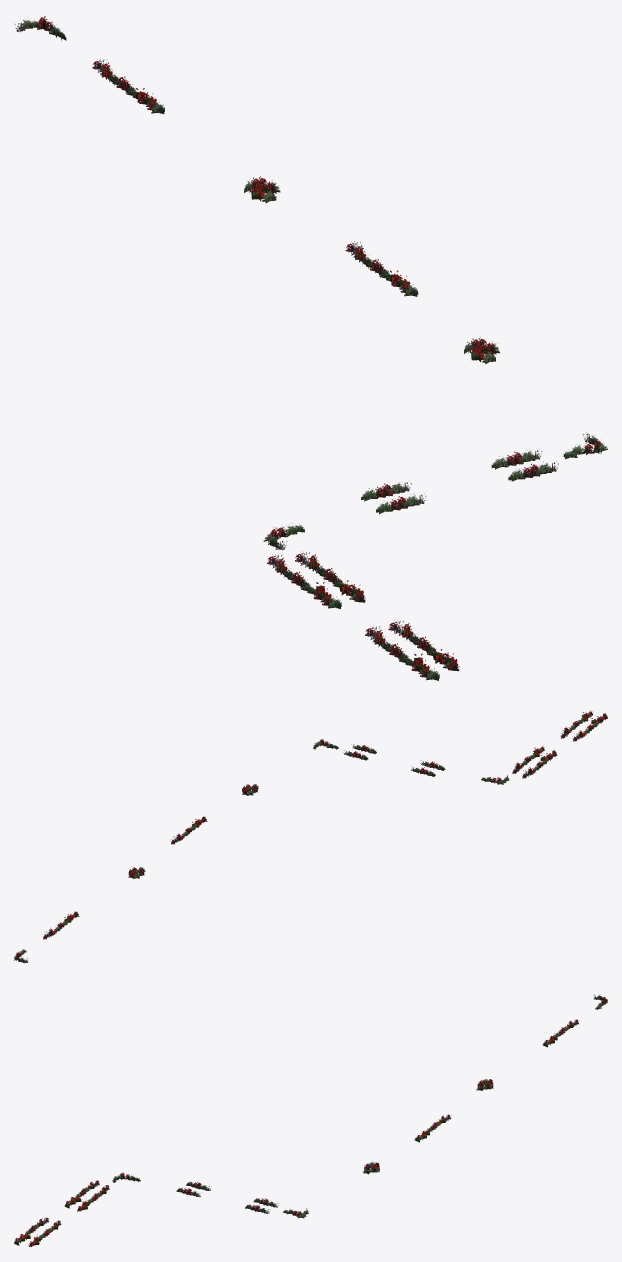
Rendered from bush06_lvs.obj.
3 views of the same model, one above another, from view 1: azimuth 30°, elevation 25°; view 2: azimuth 150°, elevation 25°; view 3: azimuth 330°, elevation 25° (orthographic). The views are drawn at different scales.
Parts seen in each view (by area): view 1: bush06_lvs; view 2: bush06_lvs; view 3: bush06_lvs.
Part boxes in pixels (x1=…): bush06_lvs: x1=14, y1=16, x2=607, y2=680; bush06_lvs: x1=14, y1=711, x2=607, y2=963; bush06_lvs: x1=14, y1=994, x2=607, y2=1246.
Bounding box in the file's own units: 44.35 × 1.58 × 151.
Materials: 4 (4 with a texture image).
